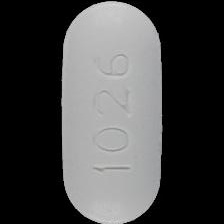42291-627: (0, 0, 224, 224)
